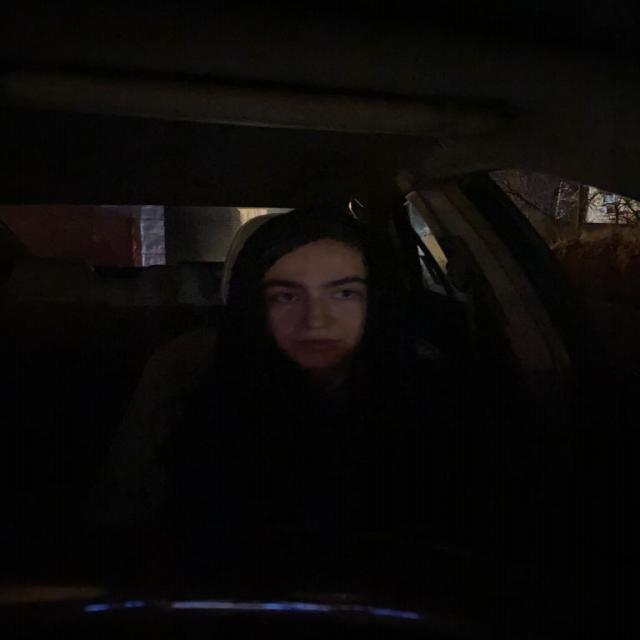person: (236, 218, 393, 376)
